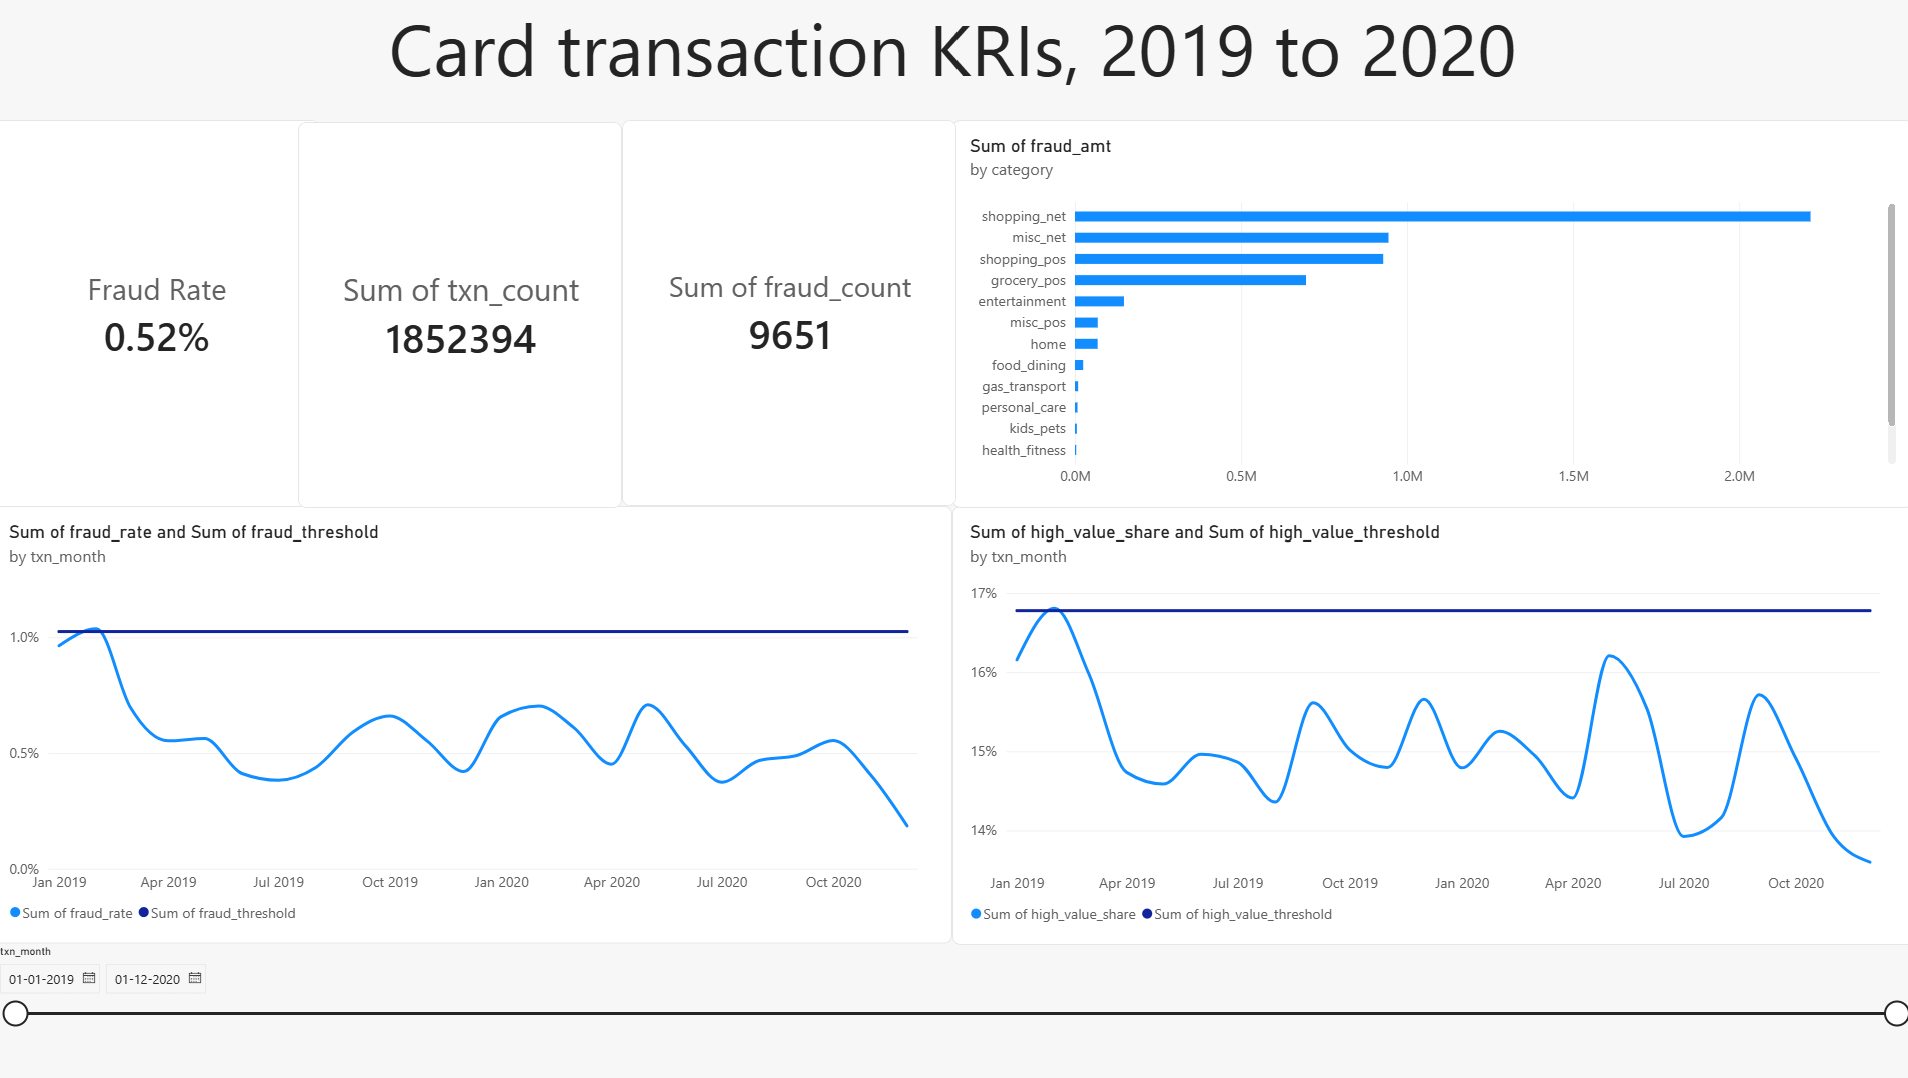

The page's visual inventory and layout, read from the dashboard file:
{"tool":"powerbi","page":{"name":"Page 1","canvas":[1920,1080],"ordinal":0},"visuals":[{"type":"cardVisual","fields":{"Data":["v_kri_breach.Fraud Rate"]},"box":[0,122,960,388],"z":0},{"type":"lineChart","fields":{"Category":["v_kri_breach.txn_month"],"Y":["Sum(v_kri_breach.fraud_rate)","Sum(v_kri_breach.fraud_threshold)"]},"box":[0,508.3,960,436.7],"z":1000},{"type":"lineChart","fields":{"Category":["v_kri_breach.txn_month"],"Y":["Sum(v_kri_breach.high_value_share)","Sum(v_kri_breach.high_value_threshold)"]},"box":[960,508,962,438],"z":2000},{"type":"clusteredBarChart","fields":{"Category":["v_kri_fact.category"],"Y":["Sum(v_kri_fact.fraud_amt)"]},"box":[960,122,960,388],"z":3000},{"type":"slicer","fields":{"Values":["v_kri_breach.txn_month"]},"box":[0,945,1920,137.5],"z":4000},{"type":"textbox","box":[0,0,1920,122],"z":4001}]}

Visuals, with their boxes in screenshot pixels (x1, y1, x2, y2), scaled from the page's 1920x1080 canvas onto the 1908x1078 screenshot:
cardVisual - v_kri_breach.Fraud Rate: {"left": 0, "top": 122, "right": 954, "bottom": 509}
lineChart - v_kri_breach.txn_month x Sum(v_kri_breach.fraud_rate): {"left": 0, "top": 507, "right": 954, "bottom": 943}
lineChart - v_kri_breach.txn_month x Sum(v_kri_breach.high_value_share): {"left": 954, "top": 507, "right": 1907, "bottom": 944}
clusteredBarChart - v_kri_fact.category x Sum(v_kri_fact.fraud_amt): {"left": 954, "top": 122, "right": 1907, "bottom": 509}
slicer - v_kri_breach.txn_month: {"left": 0, "top": 943, "right": 1907, "bottom": 1077}
textbox: {"left": 0, "top": 0, "right": 1907, "bottom": 122}
